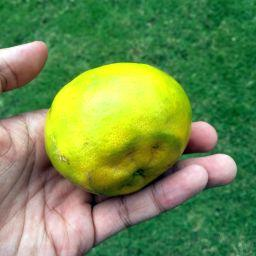Ripe: (45, 63, 196, 187)
